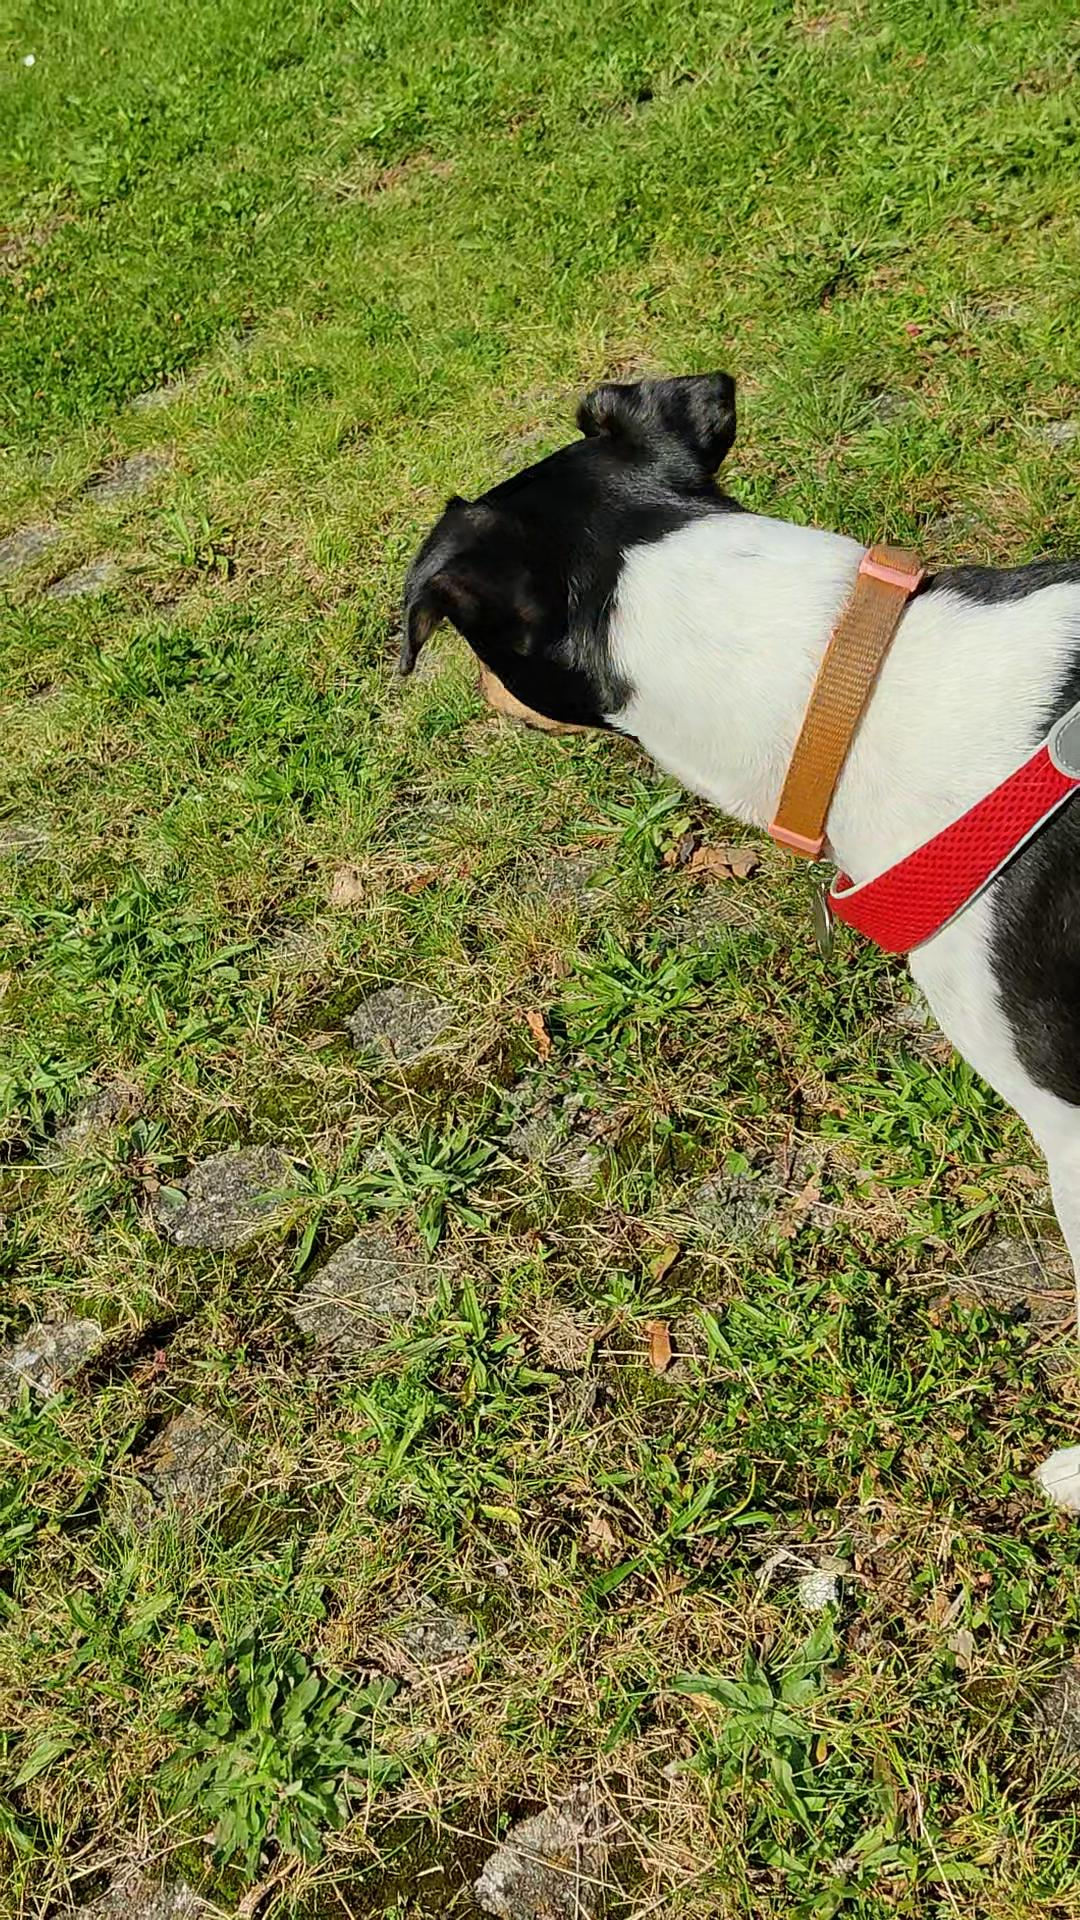Dog: (334, 316, 1079, 1567)
